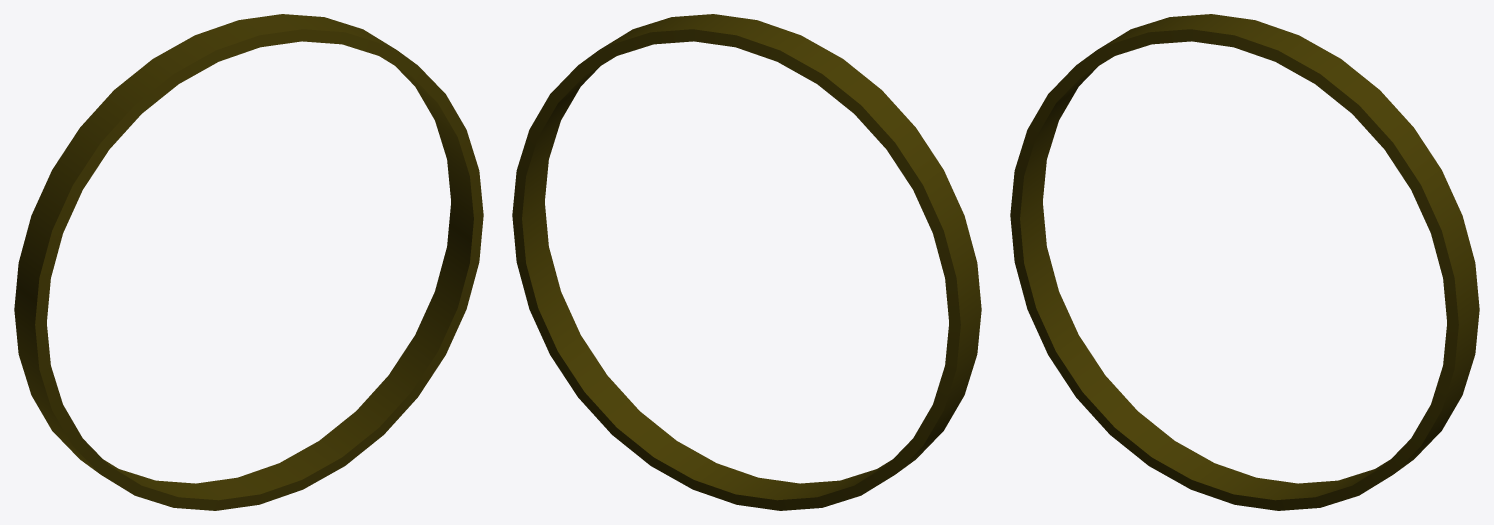
The model's file is ring.fbx.
The picture shows the model from 3 angles, left to right: view 1: azimuth 30°, elevation 25°; view 2: azimuth 150°, elevation 25°; view 3: azimuth 330°, elevation 25°; orthographic projection.
Parts seen in each view (by area): view 1: Cylinder.069; view 2: Cylinder.069; view 3: Cylinder.069.
Boxes of the visible parts, bbox=[...] form: Cylinder.069: bbox=[14, 14, 483, 510]; Cylinder.069: bbox=[512, 14, 981, 510]; Cylinder.069: bbox=[1010, 14, 1479, 510].
Size of the model in its own units: 330 by 330 by 29.08.
